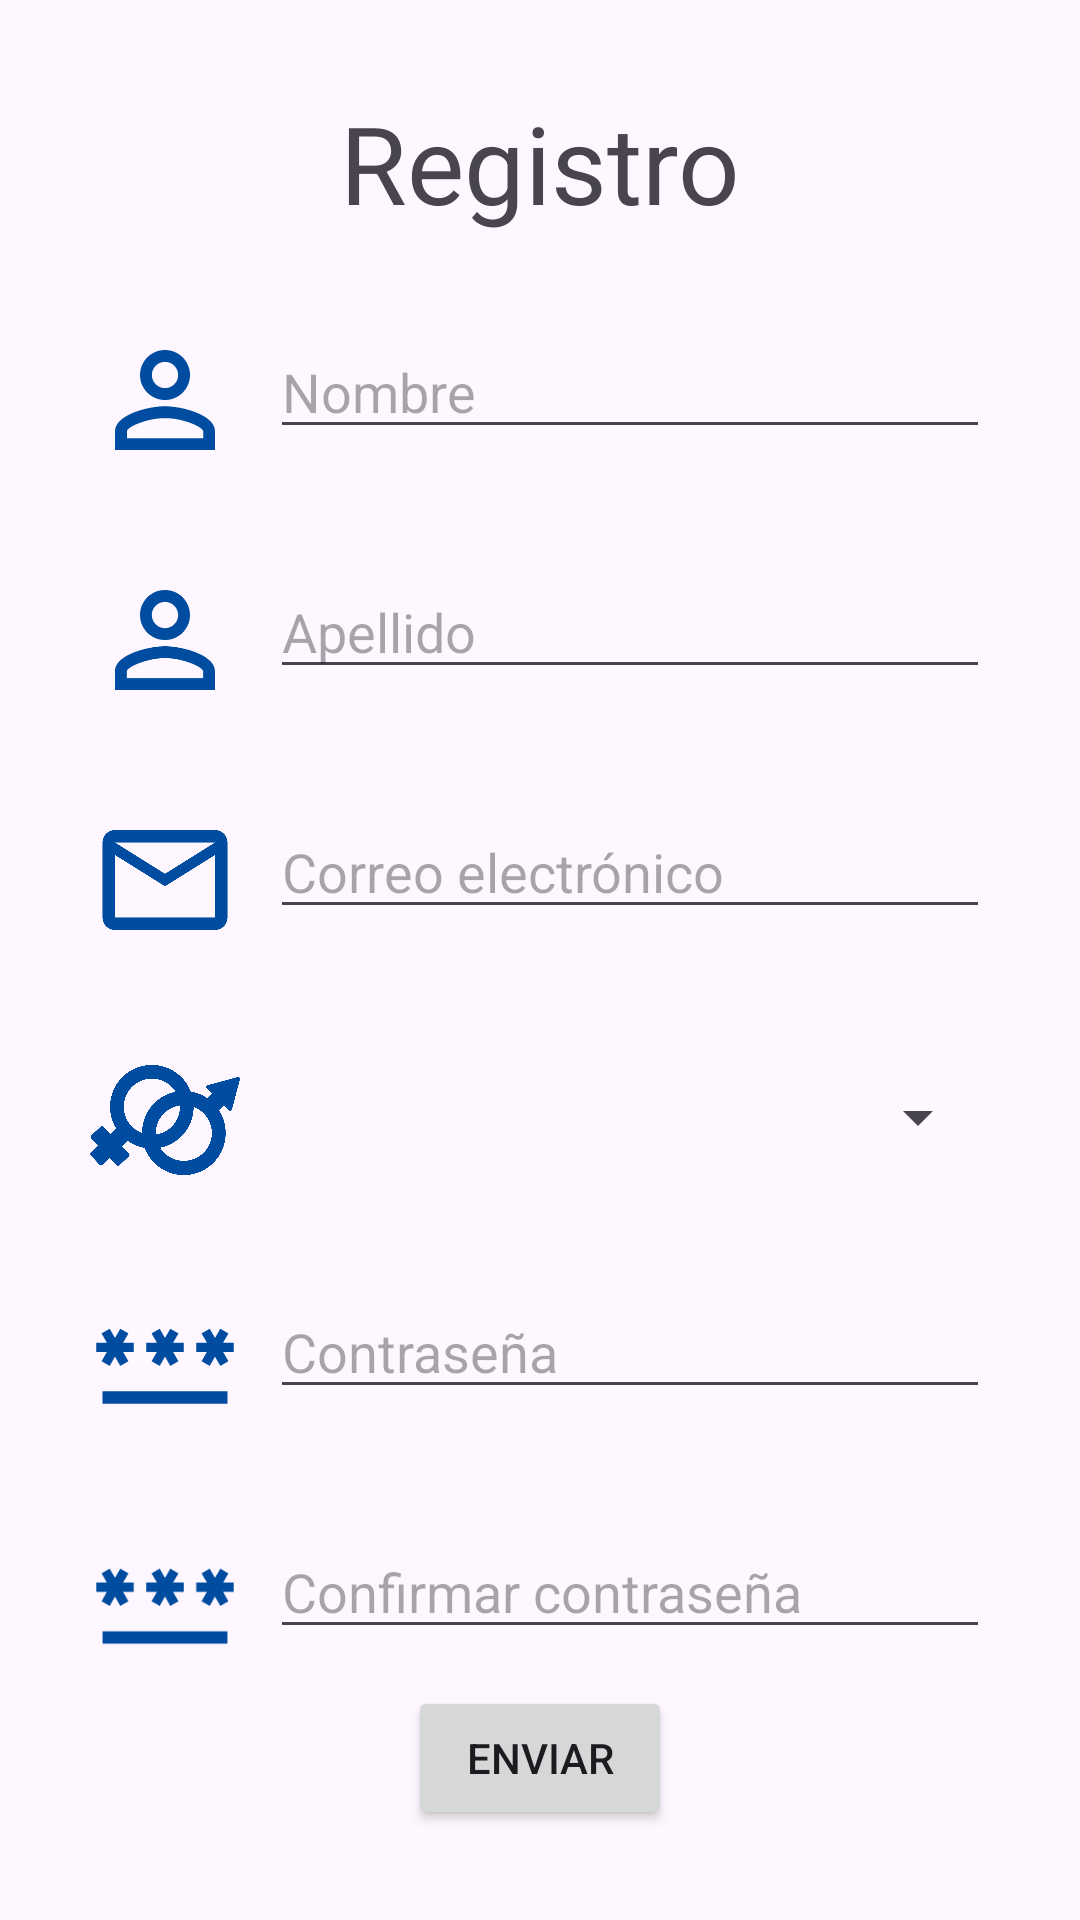

Named icons in this screenshot (1080x1920) and their centers, (x=x, y=y):
email: (x=165, y=880)
genero: (x=165, y=1120)
password: (x=165, y=1366), (x=165, y=1606)
person: (x=165, y=400), (x=165, y=640)
